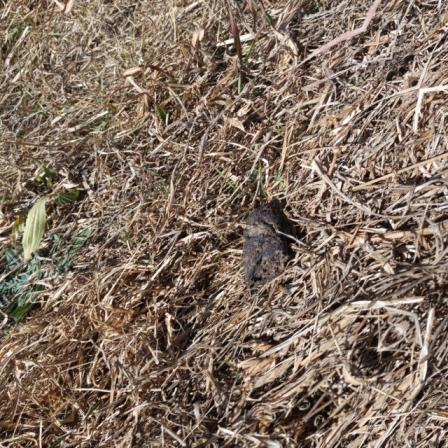dog-poop: (235, 202, 294, 280)
